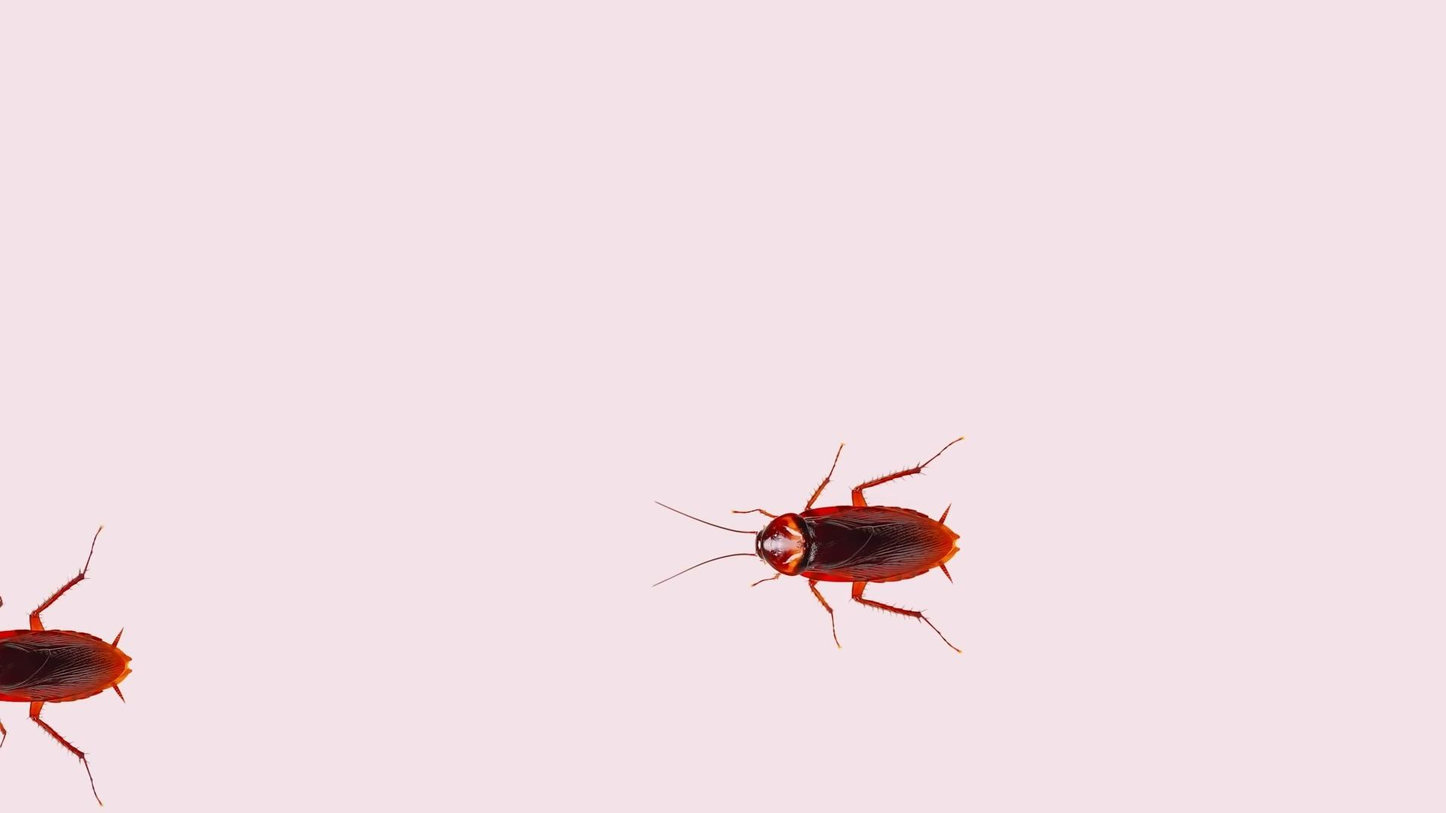cockroach: (689, 480, 962, 619), (0, 563, 132, 744)
